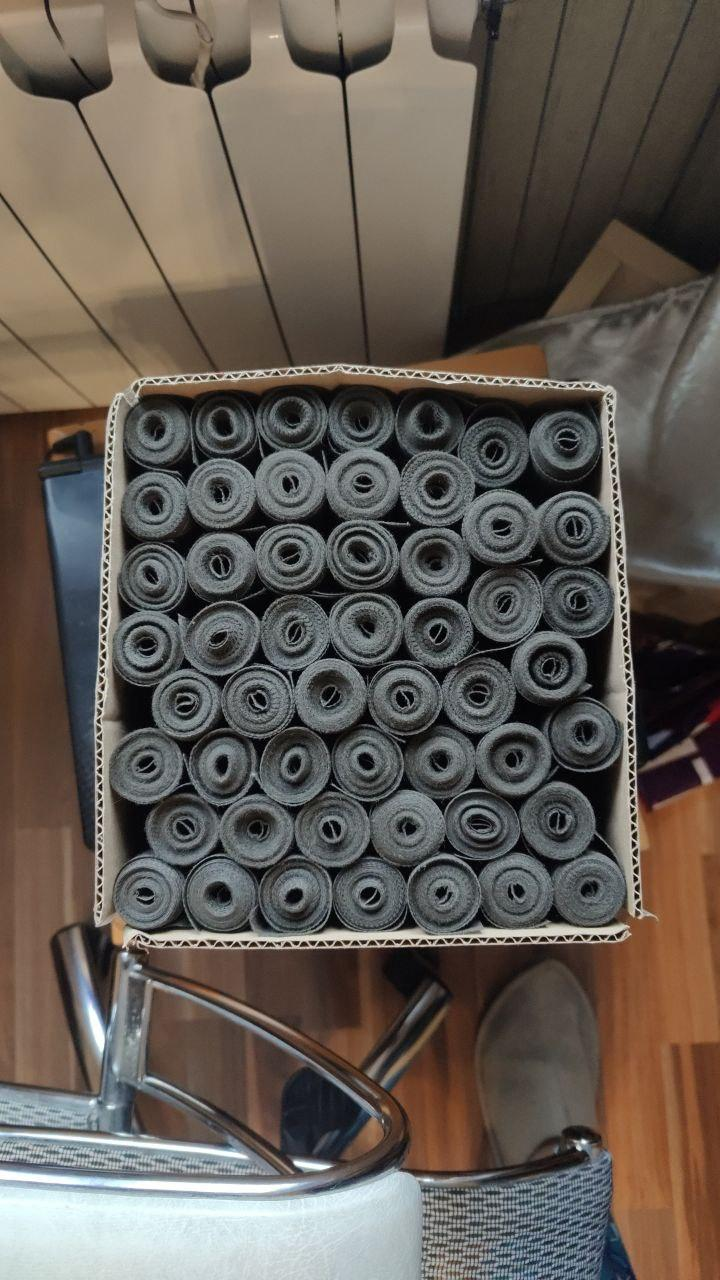roll: (517, 778, 600, 865), (470, 718, 555, 801), (507, 626, 591, 709), (465, 565, 547, 648), (404, 853, 486, 935), (291, 788, 373, 870), (543, 693, 624, 776), (475, 850, 556, 932), (526, 406, 605, 490), (366, 787, 447, 868), (458, 485, 539, 566), (533, 488, 612, 571), (183, 600, 264, 680), (438, 656, 518, 737), (398, 448, 478, 529), (181, 853, 260, 935), (108, 725, 187, 807), (109, 854, 188, 936), (326, 590, 405, 671), (328, 721, 407, 802), (537, 563, 616, 644), (365, 658, 445, 737), (401, 721, 480, 801), (255, 856, 335, 935), (218, 662, 296, 743), (550, 849, 628, 930), (257, 725, 334, 807), (324, 446, 403, 525), (252, 520, 330, 599), (441, 787, 522, 863), (257, 592, 334, 671), (330, 856, 409, 933), (184, 454, 260, 534), (185, 726, 259, 808), (142, 790, 219, 868), (322, 516, 401, 592), (458, 414, 534, 493), (121, 394, 195, 475), (397, 526, 474, 603), (400, 594, 477, 671), (182, 530, 259, 607), (218, 793, 296, 869), (253, 449, 329, 527), (293, 657, 370, 733), (109, 609, 184, 687), (148, 666, 223, 743), (116, 539, 189, 615), (393, 387, 467, 461), (119, 468, 191, 544), (326, 383, 398, 458), (189, 390, 260, 465), (257, 385, 329, 457)
